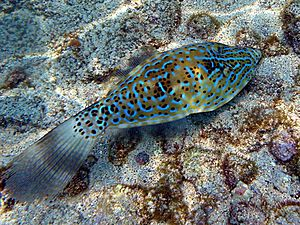Aluterus_scriptus: (3, 41, 263, 196)
